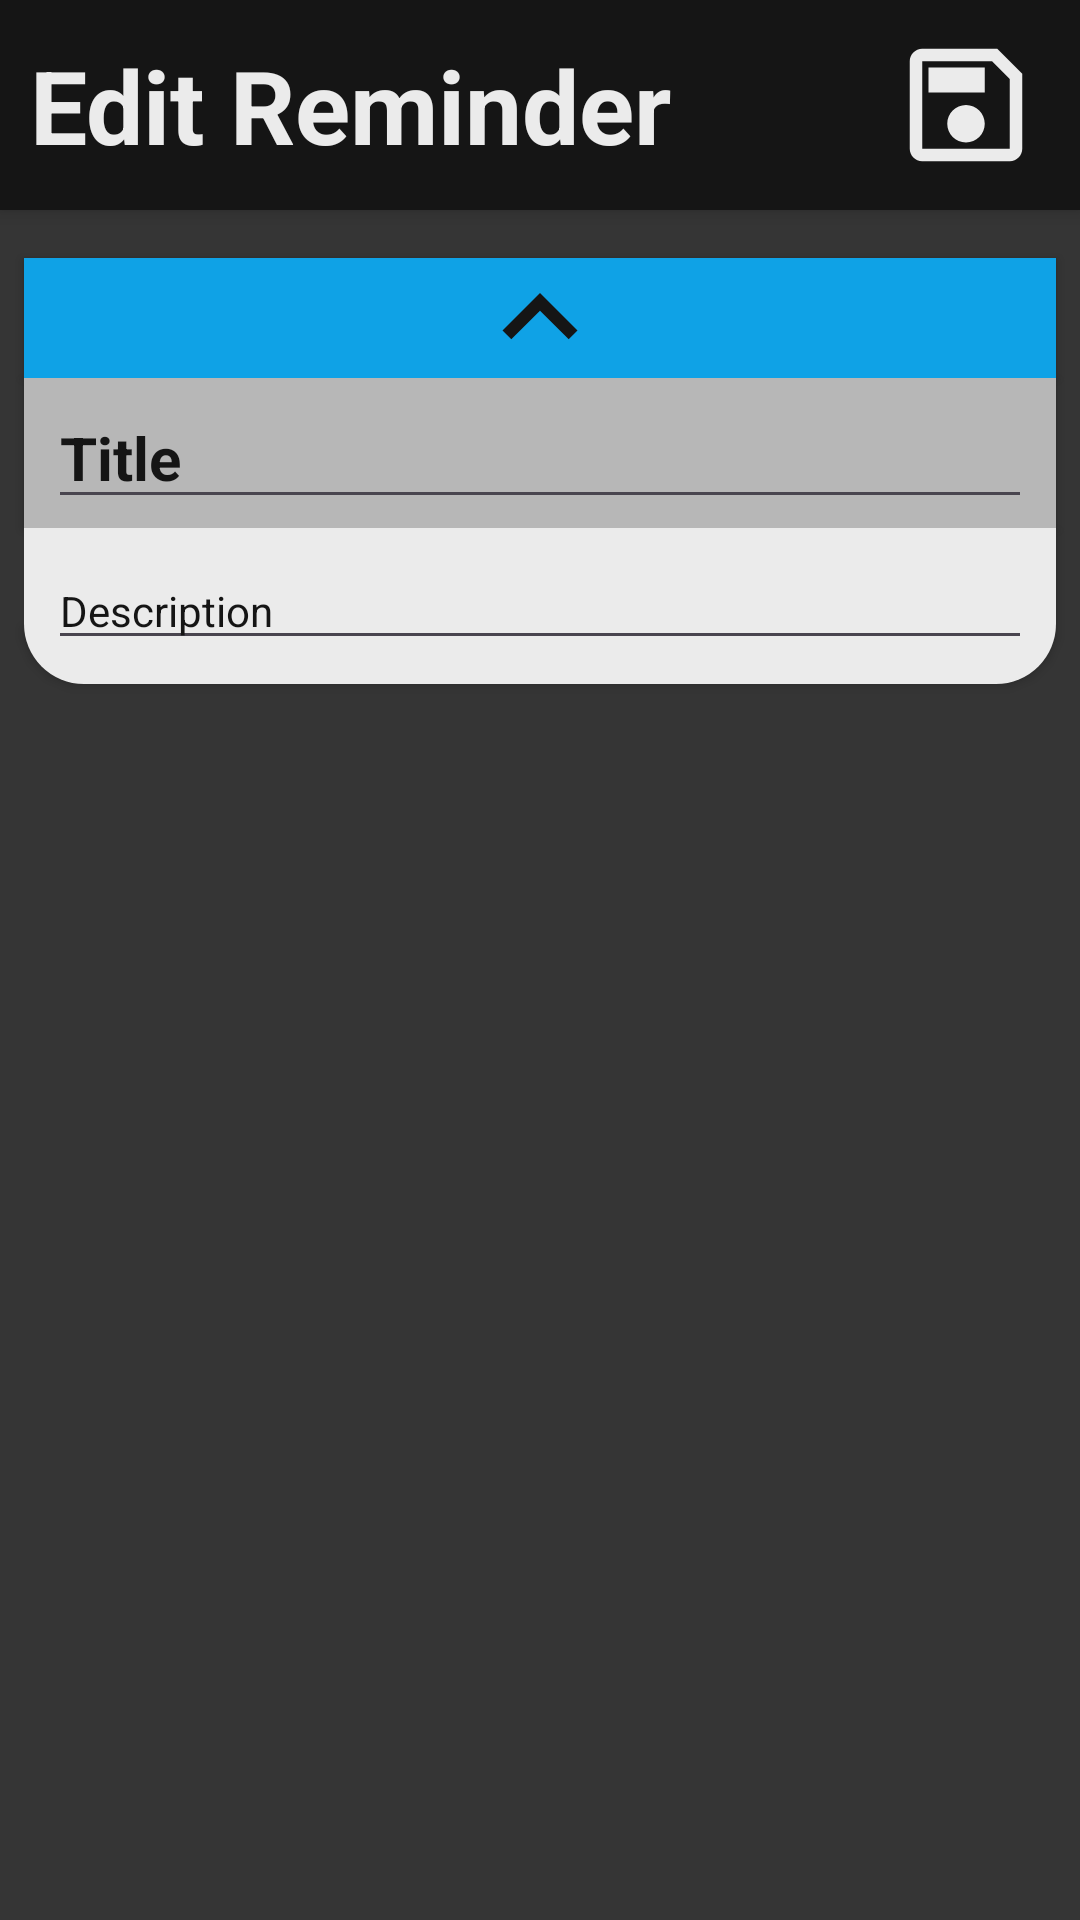

Where to tap for icons on this 1080 x 1920 app screen, as point (x, y):
Save: point (966, 105)
